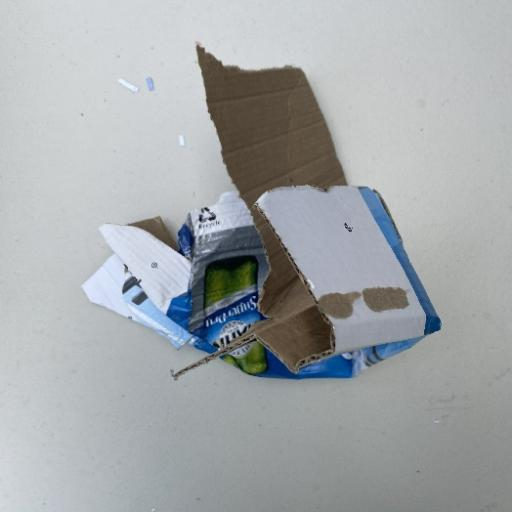Cardboard: (81, 40, 444, 382)
